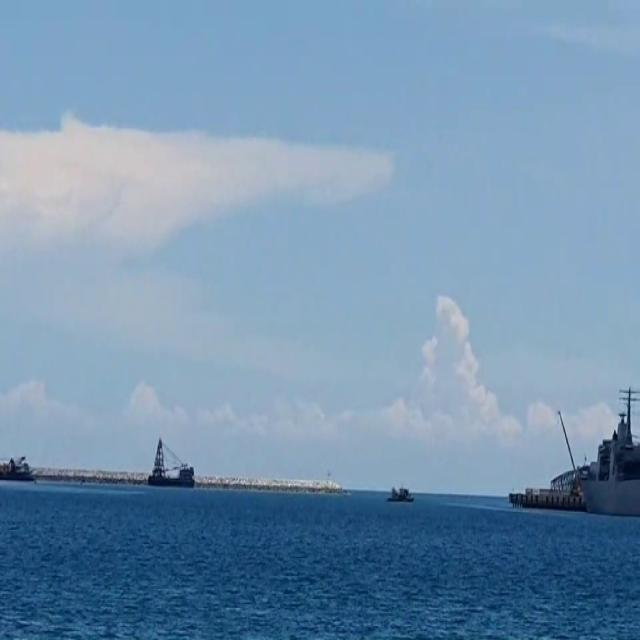civilianship: (148, 431, 212, 518), (384, 486, 423, 534)
